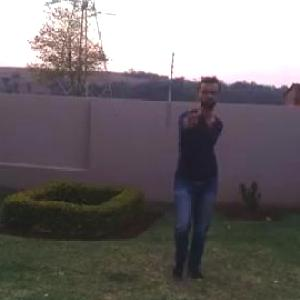takeoff-hand: (178, 100, 206, 137)
